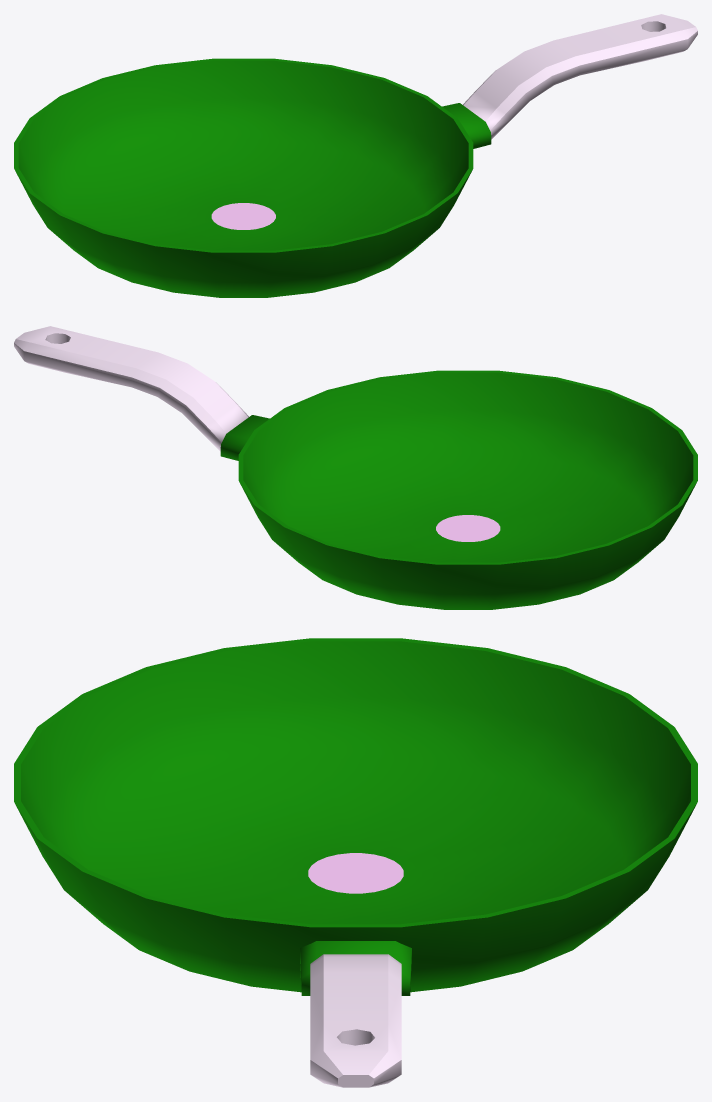
The model's file is Frying_pan.fbx.
The picture shows the model from 3 angles, top to bottom: view 1: azimuth 30°, elevation 25°; view 2: azimuth 150°, elevation 25°; view 3: azimuth 270°, elevation 25°; orthographic projection. The views are drawn at different scales.
Visible parts, largest first — view 1: Frying_pan; view 2: Frying_pan; view 3: Frying_pan.
Part boxes in pixels (x1,y1,x2,y2): Frying_pan: (14, 14, 697, 297); Frying_pan: (14, 326, 697, 609); Frying_pan: (14, 638, 697, 1087).
Bounding box in the file's own units: 0.5545 × 0.0771 × 0.3409.
